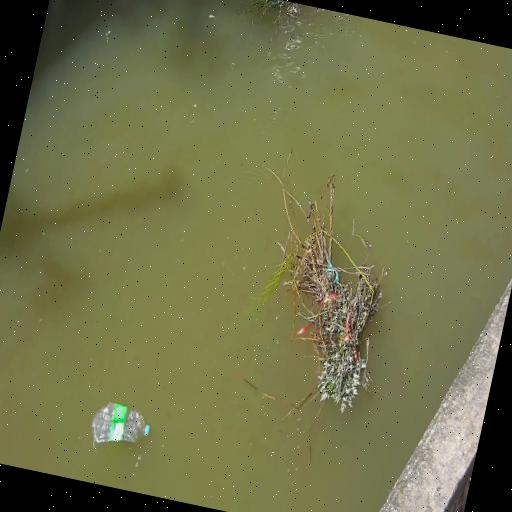plastic: (92, 403, 149, 443)
twig: (260, 149, 381, 419), (250, 0, 300, 21)
